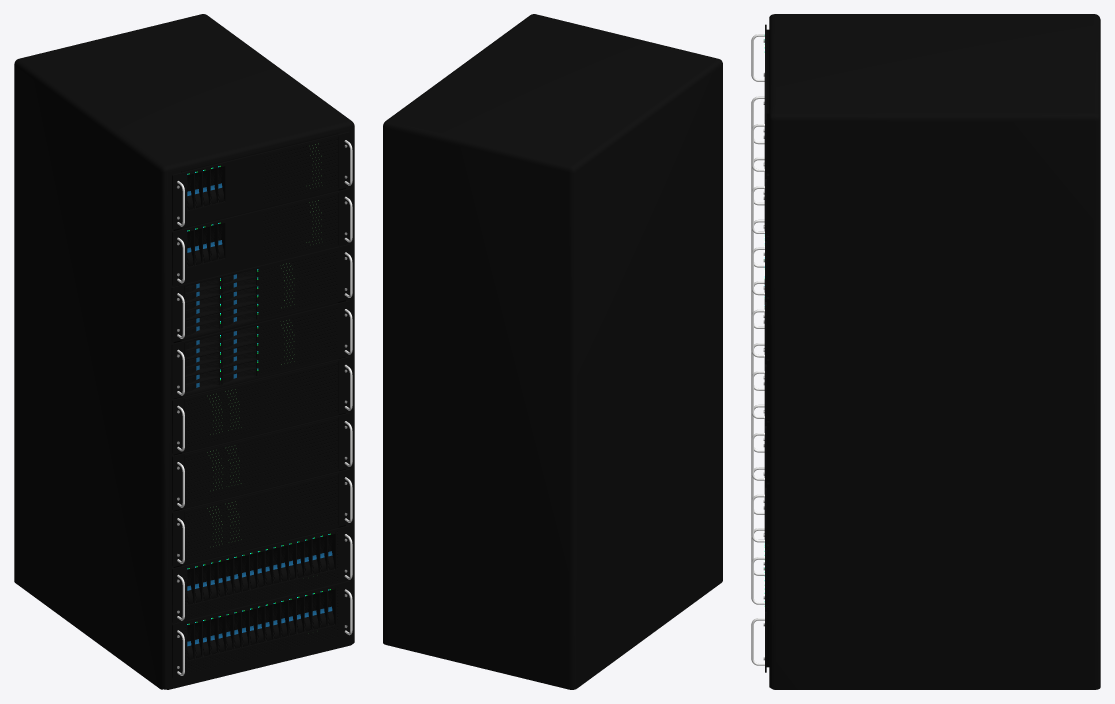
The model's file is server_racking_system-transformed.glb.
The picture shows the model from 3 angles, left to right: view 1: azimuth 30°, elevation 25°; view 2: azimuth 150°, elevation 25°; view 3: azimuth 270°, elevation 25°; orthographic projection. The views are drawn at different scales.
Visible parts, largest first — view 1: Box040_Black Metal Plate_0; view 2: Box040_Black Metal Plate_0; view 3: Box040_Black Metal Plate_0.
Part boxes in pixels (x1,y1,x2,y2): Box040_Black Metal Plate_0: (14, 14, 354, 689); Box040_Black Metal Plate_0: (383, 14, 722, 689); Box040_Black Metal Plate_0: (751, 14, 1100, 689).
Size of the model in its own units: 0.7994 by 2.07 by 1.14.
3 materials, 3 textured.
